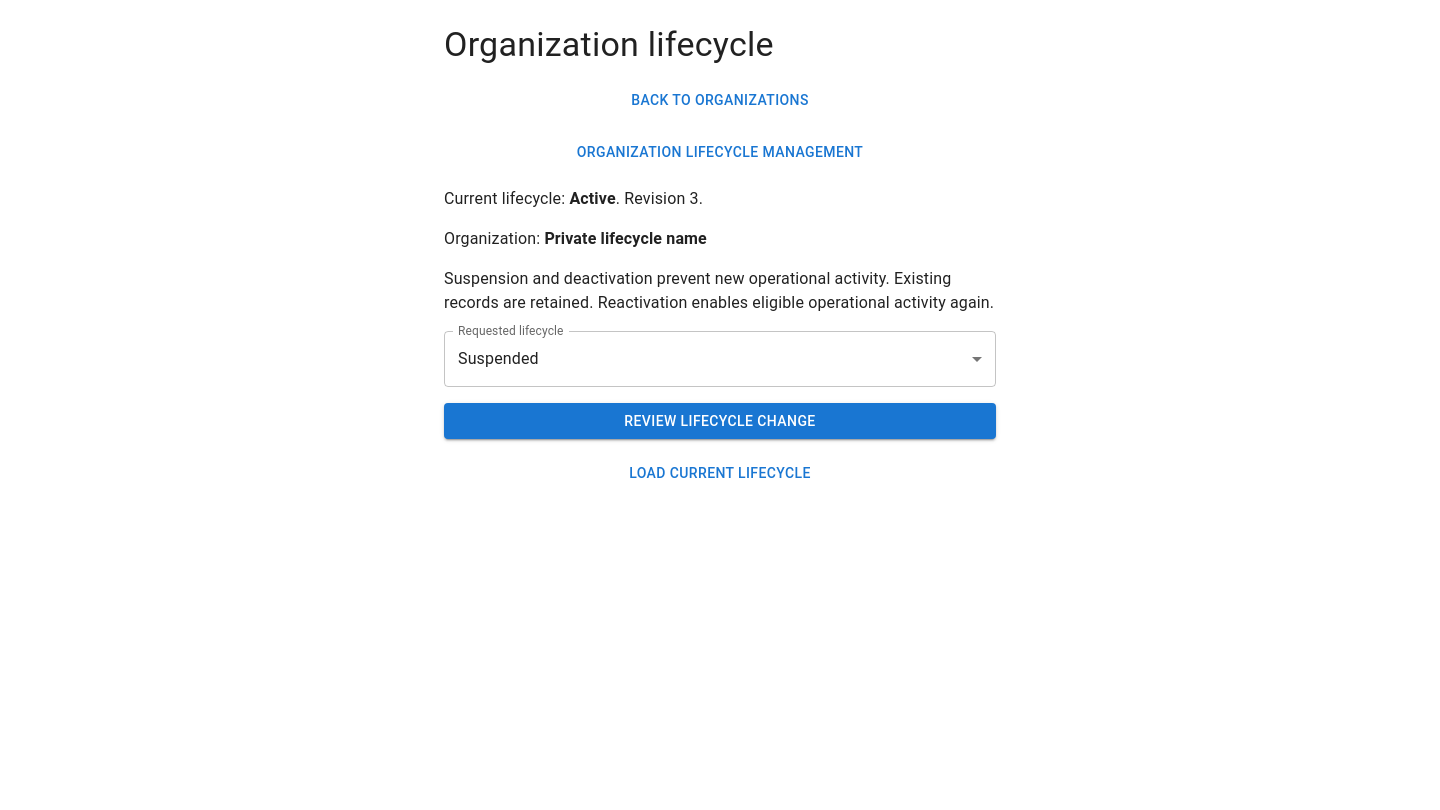
Test: observes a definite conflict without reporting mutation success
Click the button "Review lifecycle change" at [720, 421], box 444,403 -> 996,440
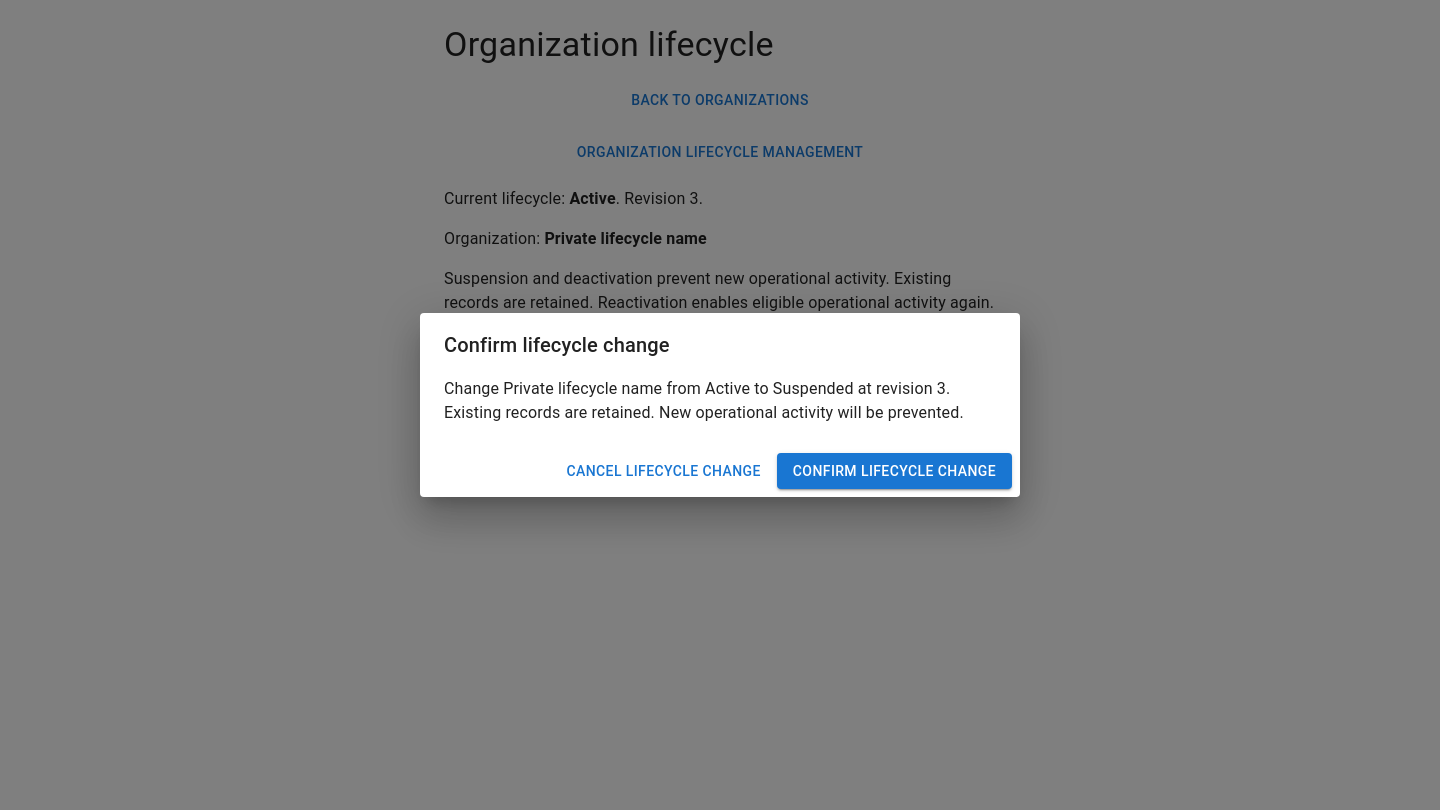
Click the button "Confirm lifecycle change" at [894, 471], box 777,453 -> 1012,489
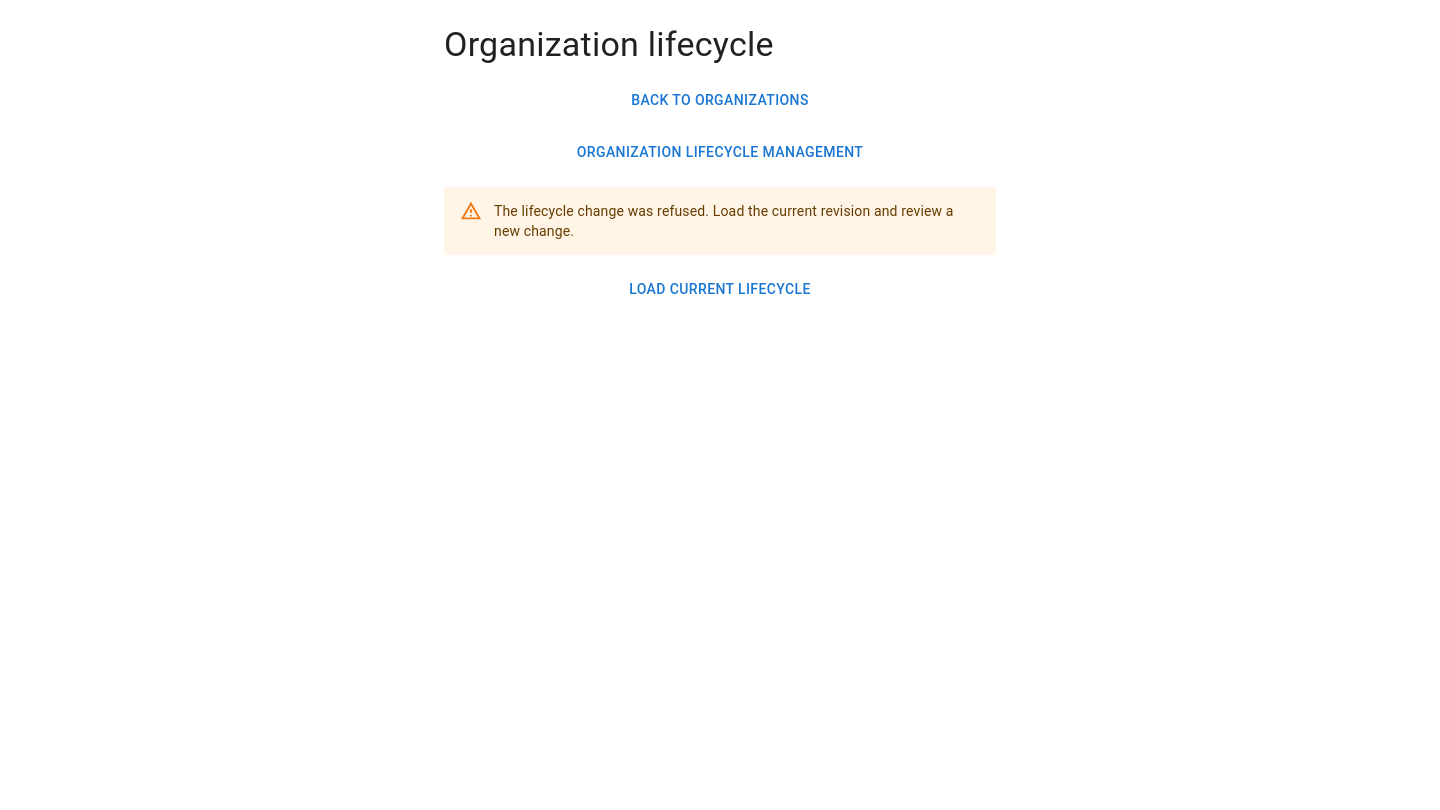
Now the text "lifecycle change was refused" is shown, box 494,203 -> 954,239
